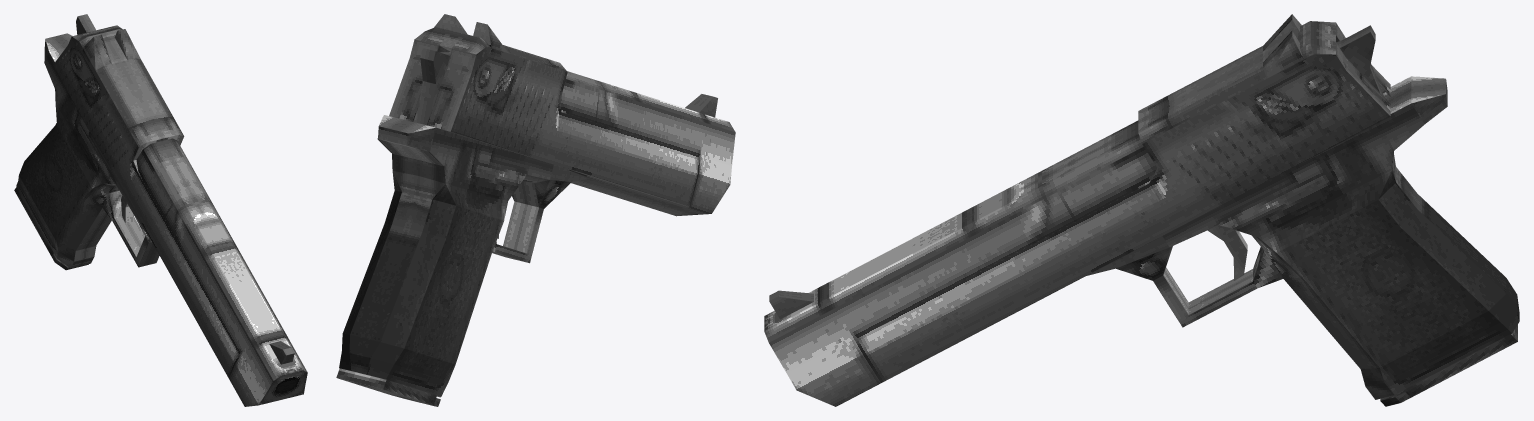
Rendered from Desert Eagle.glb.
3 views of the same model, side by side, from view 1: azimuth 30°, elevation 25°; view 2: azimuth 150°, elevation 25°; view 3: azimuth 270°, elevation 25° (orthographic). The views are drawn at different scales.
Visible parts, largest first — view 1: Cube.002, Cube.005, Cube.001, Cube.003; view 2: Cube.002, Cube.005, Cube.003, Cube.001; view 3: Cube.002, Cube.005, Cube.001, Cube.003, Cube.004.
Part boxes in pixels (x1,y1,x2,y2): Cube.002: (16,33,307,406); Cube.005: (53,25,240,378); Cube.001: (14,187,88,270); Cube.003: (76,14,95,34); Cube.002: (339,71,735,397); Cube.005: (389,14,700,206); Cube.003: (415,48,450,124); Cube.001: (336,368,440,406); Cube.002: (764,76,1519,406); Cube.005: (853,14,1390,382); Cube.001: (1380,325,1517,406); Cube.003: (1336,25,1384,97); Cube.004: (1207,225,1247,280).
Bounding box in the file's own units: 0.4962 × 2.69 × 4.94.
Materials: 1 (1 with a texture image).
